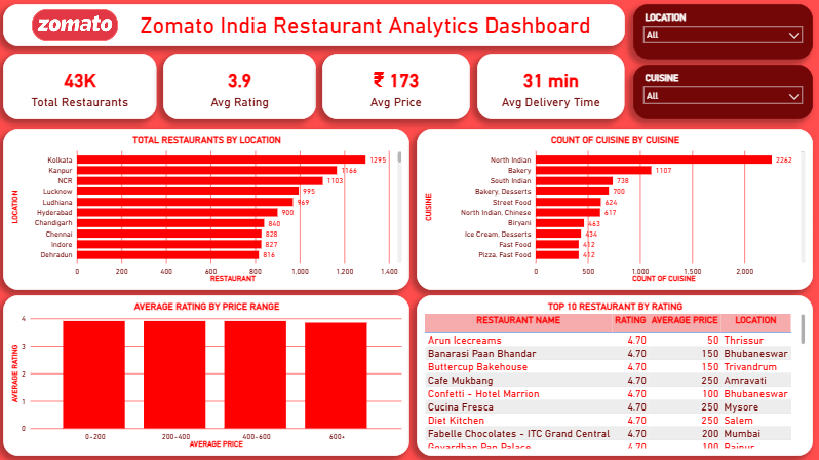

The dashboard page shown, as its layout file describes it:
{"tool":"powerbi","page":{"name":"Page 1","canvas":[1600,900],"ordinal":0},"visuals":[{"type":"textbox","box":[8,8,1212,82],"z":0},{"type":"image","box":[64,18,168,62],"z":1000},{"type":"card","fields":{"Values":["clean_zomato.Total Restaurants"]},"box":[8.2,103.8,299.5,128],"z":2000},{"type":"card","fields":{"Values":["clean_zomato.Avg Rating"]},"box":[319.2,103.8,298.4,128],"z":3000},{"type":"card","fields":{"Values":["clean_zomato.Avg Price"]},"box":[630.2,103.8,287.9,128],"z":4000},{"type":"card","fields":{"Values":["clean_zomato. Avg Delivery Time"]},"box":[932.4,103.8,287.4,128],"z":5000},{"type":"clusteredBarChart","title":"TOTAL RESTAURANTS BY LOCATION","fields":{"Category":["clean_zomato.location"],"Y":["CountNonNull(clean_zomato.restaurant_name)"]},"box":[8,250,792,314],"z":6000},{"type":"barChart","title":"COUNT OF CUISINE BY CUISINE","fields":{"Category":["clean_zomato.cuisine"],"Y":["CountNonNull(clean_zomato.cuisine)"]},"box":[814,250,772,314],"z":7000},{"type":"clusteredColumnChart","title":"AVERAGE RATING BY PRICE RANGE","fields":{"Category":["clean_zomato.Price Range"],"Y":["clean_zomato.Avg Rating"]},"box":[8,574,792,312],"z":8000},{"type":"tableEx","title":"TOP 10 RESTAURANT BY RATING","fields":{"Values":["clean_zomato.restaurant_name","clean_zomato.rating","clean_zomato.average_price","clean_zomato.location"]},"box":[814,574,772,312],"z":9000},{"type":"slicer","fields":{"Values":["clean_zomato.location"]},"box":[1235.9,8.2,350,107.1],"z":10000},{"type":"slicer","fields":{"Values":["clean_zomato.cuisine"]},"box":[1235.9,125.9,350,105.9],"z":11000}]}

Visuals, with their boxes in screenshot pixels (x1, y1, x2, y2), scaled from the page's 1600x900 canvas onto the 819x460 screenshot:
textbox: detection(4, 4, 624, 46)
image: detection(33, 9, 119, 41)
card - clean_zomato.Total Restaurants: detection(4, 53, 158, 118)
card - clean_zomato.Avg Rating: detection(163, 53, 316, 118)
card - clean_zomato.Avg Price: detection(323, 53, 470, 118)
card - clean_zomato. Avg Delivery Time: detection(477, 53, 624, 118)
"TOTAL RESTAURANTS BY LOCATION" clusteredBarChart: detection(4, 128, 410, 288)
"COUNT OF CUISINE BY CUISINE" barChart: detection(417, 128, 812, 288)
"AVERAGE RATING BY PRICE RANGE" clusteredColumnChart: detection(4, 293, 410, 453)
"TOP 10 RESTAURANT BY RATING" tableEx: detection(417, 293, 812, 453)
slicer - clean_zomato.location: detection(633, 4, 812, 59)
slicer - clean_zomato.cuisine: detection(633, 64, 812, 118)
